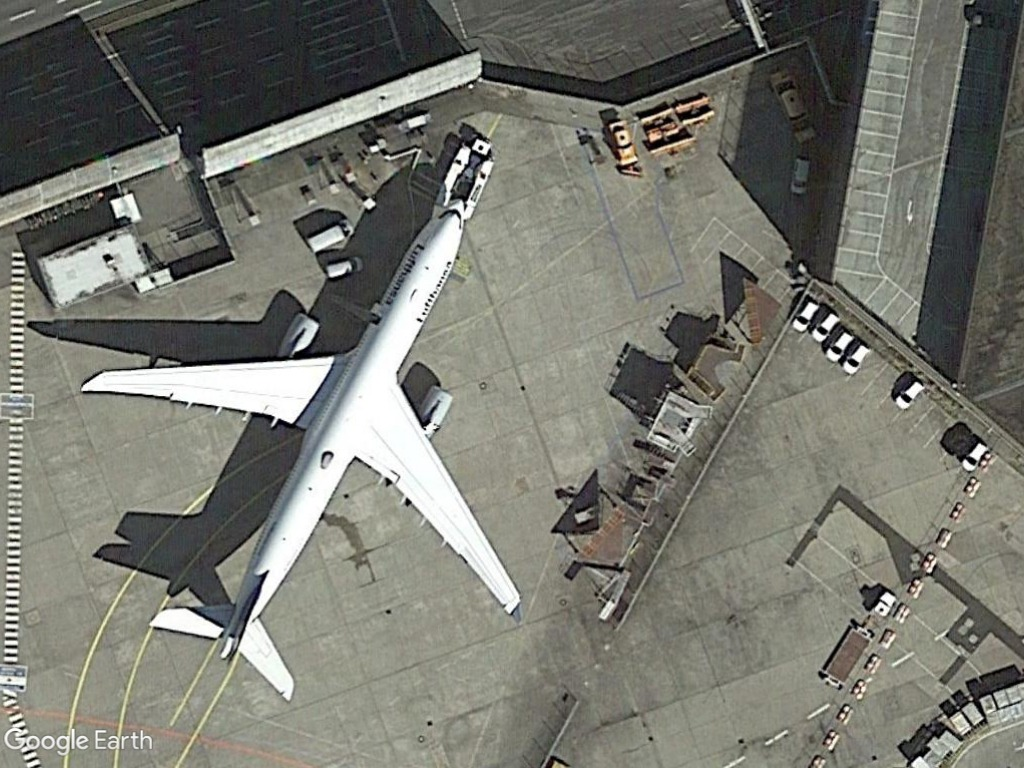airliner: (73, 191, 531, 706)
pushbacktruck: (430, 130, 512, 215)
van: (831, 337, 879, 384), (816, 319, 862, 367), (782, 292, 826, 340), (805, 305, 846, 349), (888, 371, 928, 416), (953, 435, 995, 477)
